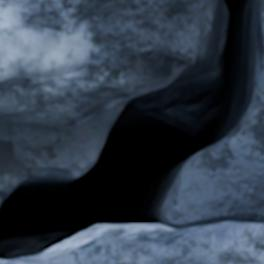brick: (0, 0, 214, 129), (0, 223, 263, 263)
crack: (0, 0, 263, 261), (230, 219, 263, 224)
